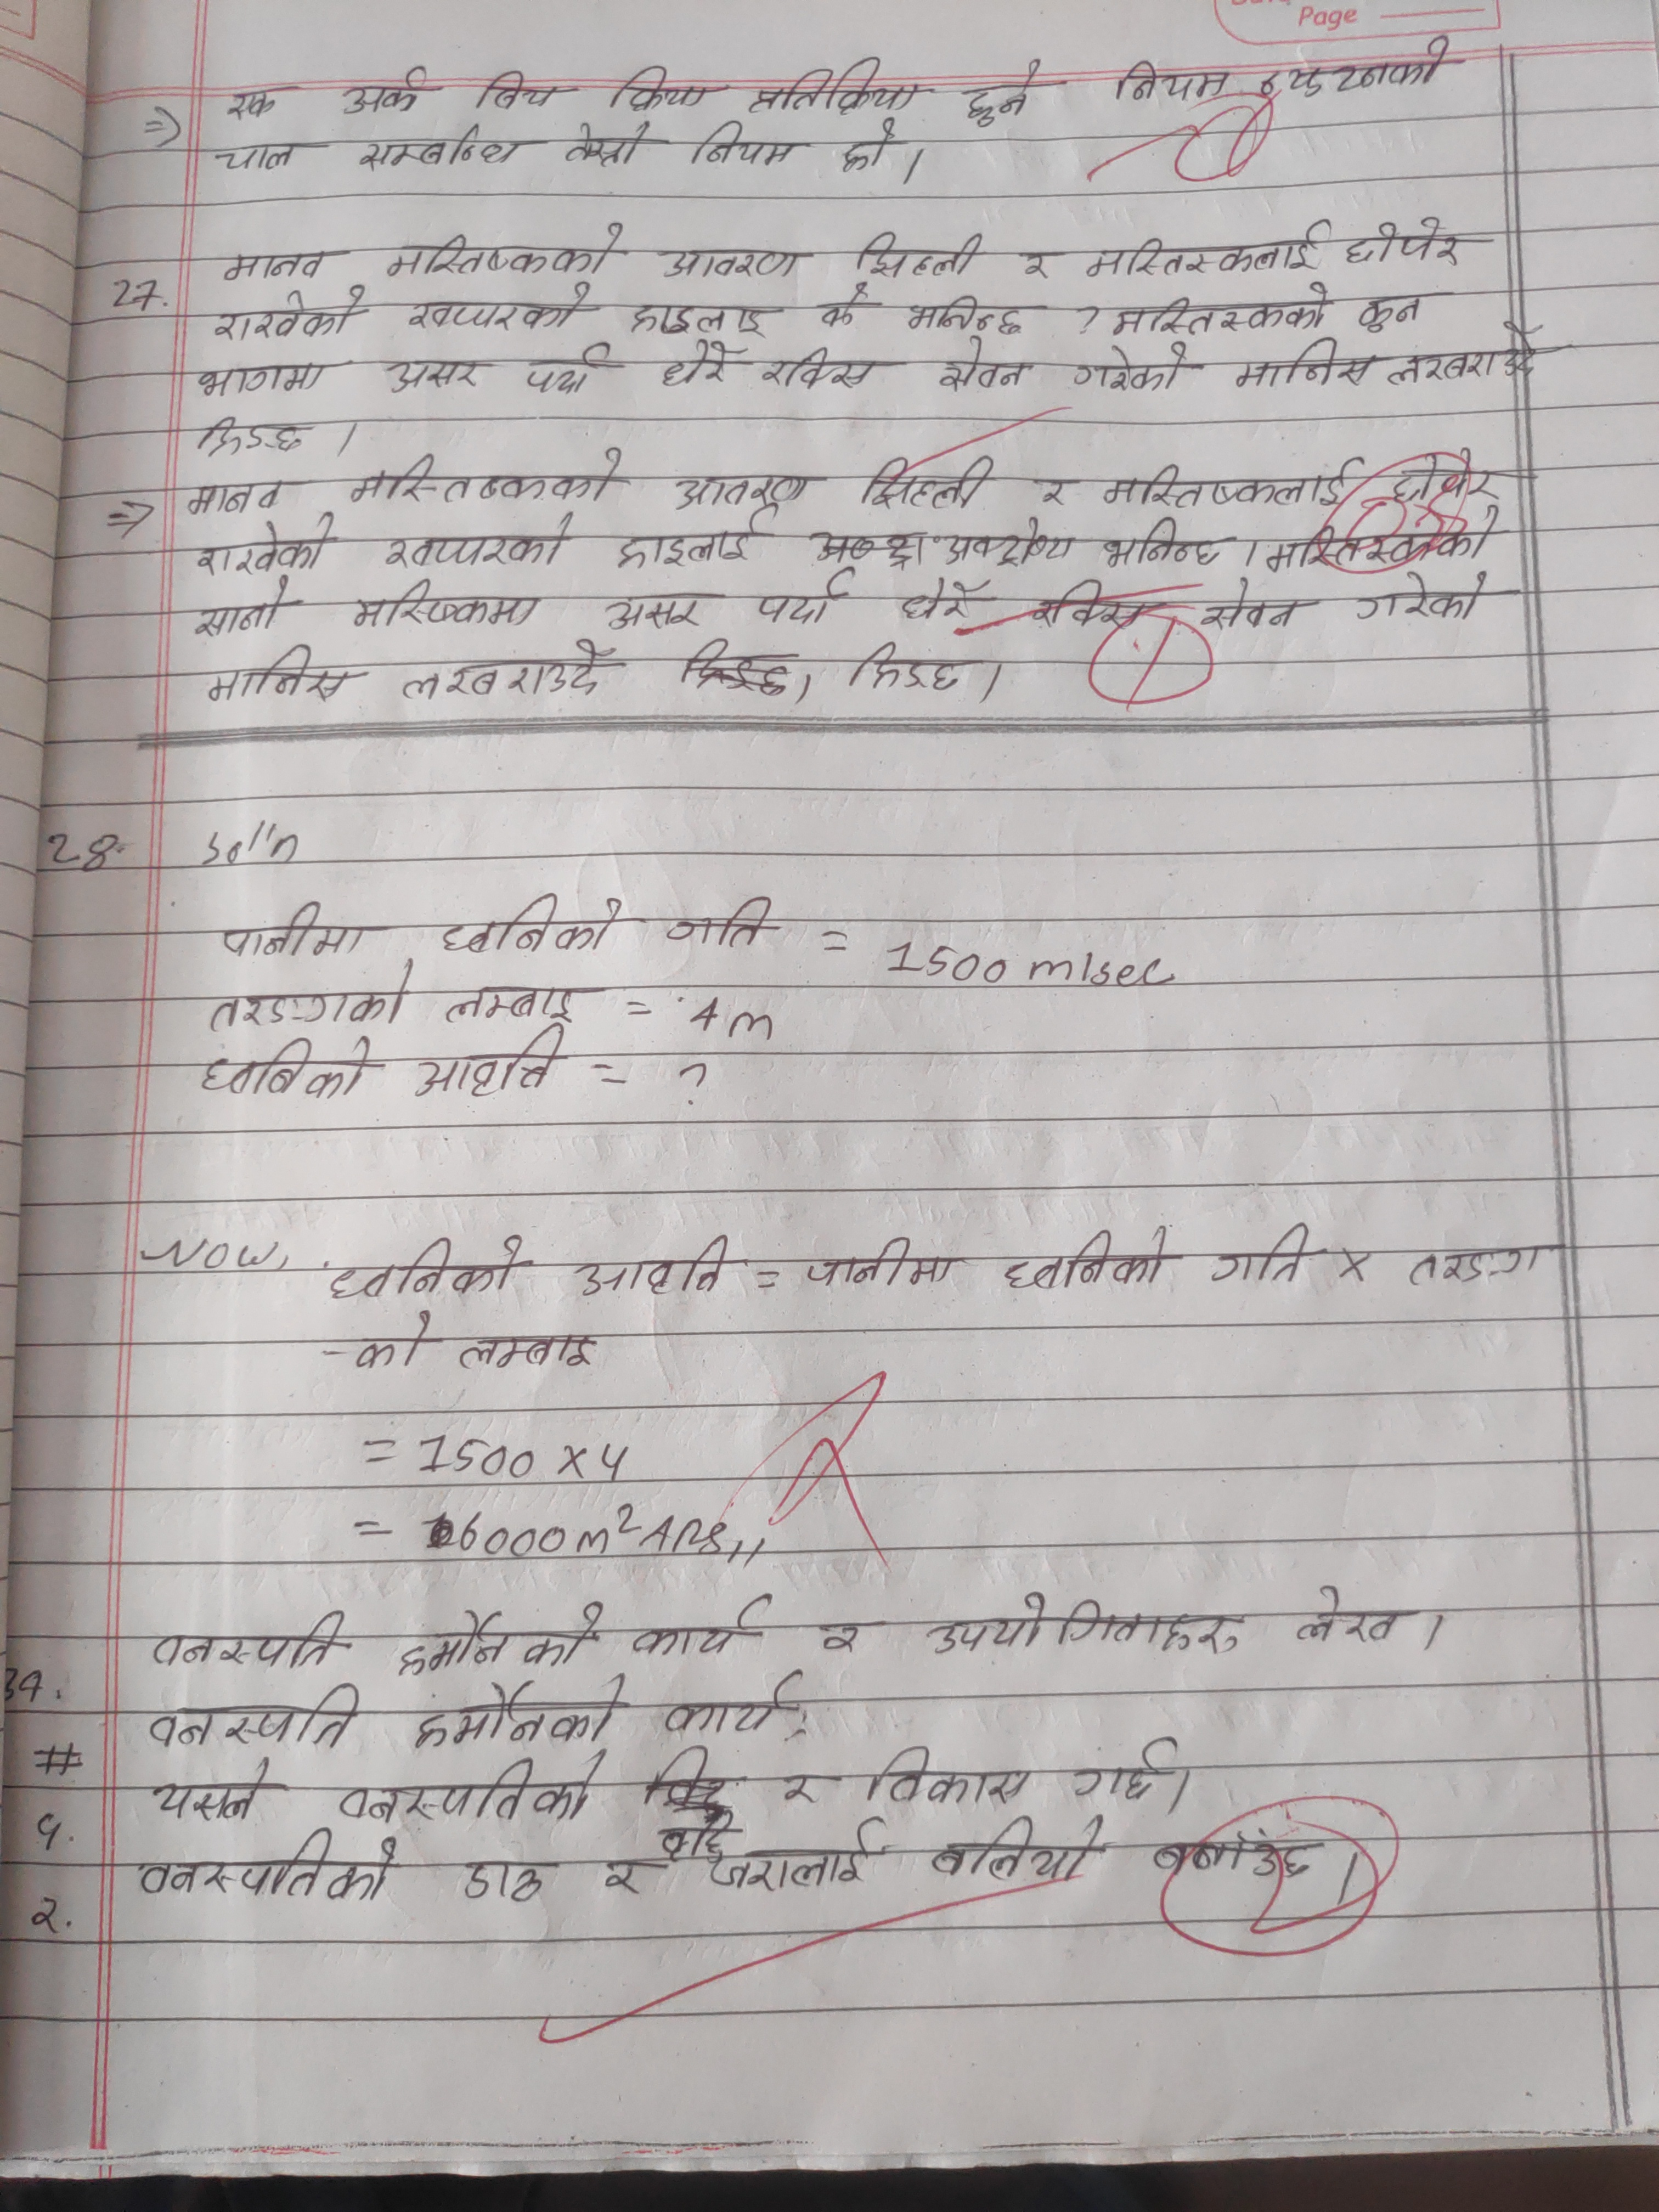text: (924, 1588, 1246, 1667), (336, 1756, 603, 1831), (138, 1827, 399, 1902), (347, 444, 631, 509), (145, 1681, 364, 1754), (413, 1676, 627, 1750), (1082, 218, 1324, 282), (1262, 509, 1502, 573), (326, 1231, 530, 1306), (394, 1601, 603, 1670), (399, 636, 613, 702), (1101, 456, 1363, 510), (927, 1815, 1119, 1886), (709, 1818, 896, 1892), (1256, 35, 1464, 99), (999, 1223, 1176, 1298), (383, 223, 634, 275), (150, 1606, 354, 1669), (1108, 282, 1331, 338), (411, 1026, 570, 1103), (439, 890, 627, 954), (863, 1742, 1030, 1813), (200, 1038, 380, 1103), (206, 975, 411, 1031), (570, 1233, 742, 1298), (383, 514, 577, 570), (748, 57, 929, 117), (350, 575, 545, 629), (408, 277, 598, 329), (1385, 327, 1546, 388), (218, 900, 378, 961), (627, 1594, 774, 1660), (206, 644, 362, 705), (1147, 1836, 1328, 1888), (659, 1670, 805, 1733), (805, 1235, 964, 1292), (213, 287, 373, 343), (613, 510, 767, 568), (192, 517, 342, 575), (1201, 1219, 1326, 1287), (359, 125, 533, 174), (857, 453, 999, 512), (1293, 1583, 1417, 1648), (150, 1759, 274, 1824), (1100, 514, 1229, 575), (1349, 571, 1504, 622), (439, 979, 596, 1028), (1066, 1735, 1176, 1804), (1232, 340, 1378, 390), (1408, 1237, 1554, 1287), (1032, 577, 1159, 634), (943, 512, 1073, 568), (1345, 218, 1480, 270), (850, 228, 988, 279), (936, 333, 1040, 399), (1070, 341, 1202, 394), (849, 639, 972, 695), (190, 575, 296, 639), (904, 291, 1053, 336), (1197, 578, 1310, 637), (960, 54, 1049, 129), (451, 1329, 598, 1374), (664, 894, 779, 951), (756, 568, 857, 632), (762, 345, 894, 394), (606, 61, 725, 115), (192, 355, 338, 399), (629, 296, 781, 338), (692, 118, 807, 172), (659, 242, 805, 284), (352, 1305, 439, 1374), (1396, 451, 1514, 502), (673, 470, 816, 509), (526, 338, 610, 402), (190, 415, 317, 456), (458, 1855, 556, 1909), (380, 354, 493, 399), (338, 63, 436, 115), (1115, 61, 1232, 105), (565, 122, 666, 169), (899, 575, 995, 624), (599, 590, 706, 632), (657, 1813, 737, 1867), (659, 336, 741, 388), (472, 70, 570, 111), (221, 247, 338, 282), (840, 117, 903, 179), (1356, 289, 1439, 334), (185, 481, 286, 516), (816, 277, 875, 334), (213, 143, 326, 171), (817, 1613, 880, 1658), (596, 1855, 653, 1904), (223, 84, 295, 122), (779, 1771, 828, 1815), (1032, 475, 1080, 509), (1016, 249, 1061, 284)
